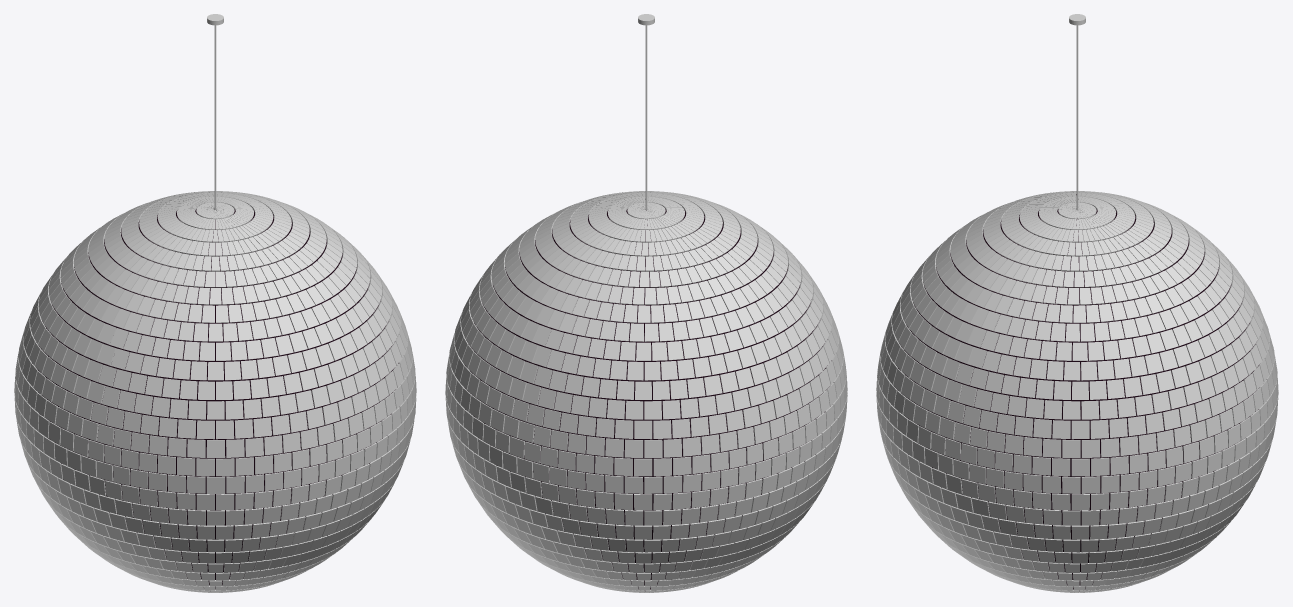
The model's file is disco_ball.fbx.
3 views of the same model, side by side, from view 1: azimuth 30°, elevation 25°; view 2: azimuth 150°, elevation 25°; view 3: azimuth 270°, elevation 25° (orthographic).
Parts seen in each view (by area): view 1: disco_ball; view 2: disco_ball; view 3: disco_ball.
Part boxes in pixels (bbox=[...]): disco_ball: bbox=[14, 14, 416, 592]; disco_ball: bbox=[445, 14, 847, 592]; disco_ball: bbox=[876, 14, 1278, 592].
Size of the model in its own units: 120 by 183 by 120.
